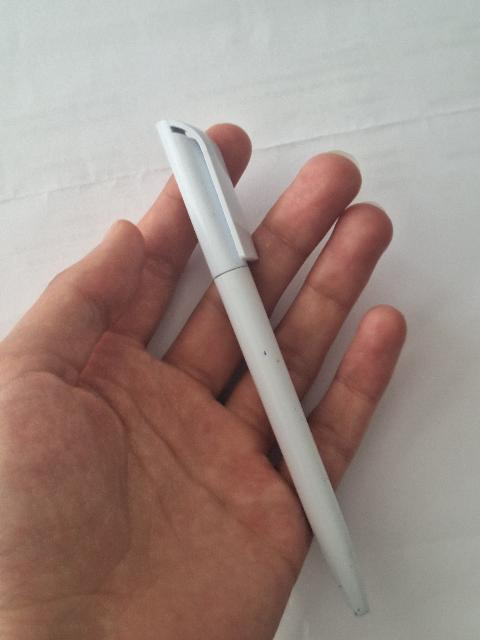writing_tool: (155, 119, 379, 619)
